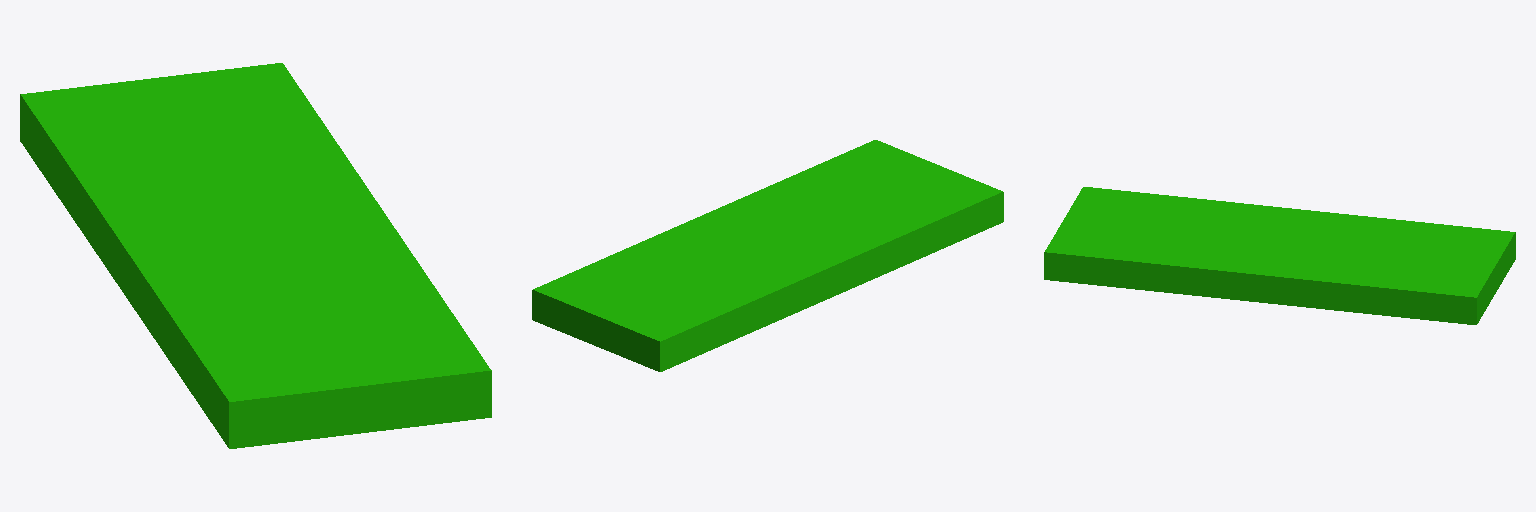
robot.urdf — Interference:
<?xml version="1.0"?>
<robot name="Interference">
  <link name="baseLink">
    <inertial>
      <origin xyz="0.0 0.0 0.0" rpy="0.0 0.0 0.0"/>
      <inertia ixx="0.0" ixy="0.0" ixz="0.0" iyy="0.0" iyz="0.0" izz="0.0"/>
      <mass value="0"/>
    </inertial>
    <visual>
      <origin xyz="0.0 0.0 0.0" rpy="0.0 0.0 1.3264884518041793"/>
      <geometry>
        <box size="0.14565383240423319 0.05239193377896208 0.01"/>
      </geometry>
      <material name="color">
        <color rgba="0.16758039497140131 0.7656341081532253 0.05813358277438585 1.0"/>
      </material>
    </visual>
  </link>
</robot>

--- What the picture shows (computed from the rendered views, not written in the file) ---
The picture shows the robot from 3 angles, left to right: view 1: azimuth 30°, elevation 25°; view 2: azimuth 150°, elevation 25°; view 3: azimuth 270°, elevation 25°; orthographic projection.
Robot: Interference — 1 links, 0 joints (none); root link baseLink; default pose: all joints at 0.
Visible links, largest first — view 1: baseLink; view 2: baseLink; view 3: baseLink.
Boxes of the visible links, x1,y1,x2,y2 form: baseLink: [20, 63, 491, 448]; baseLink: [532, 140, 1003, 371]; baseLink: [1044, 187, 1515, 324].
Size in the robot's own frame: 0.0861 by 0.154 by 0.01 metres.
Geometry: primitives only (box / cylinder / sphere), no mesh files.